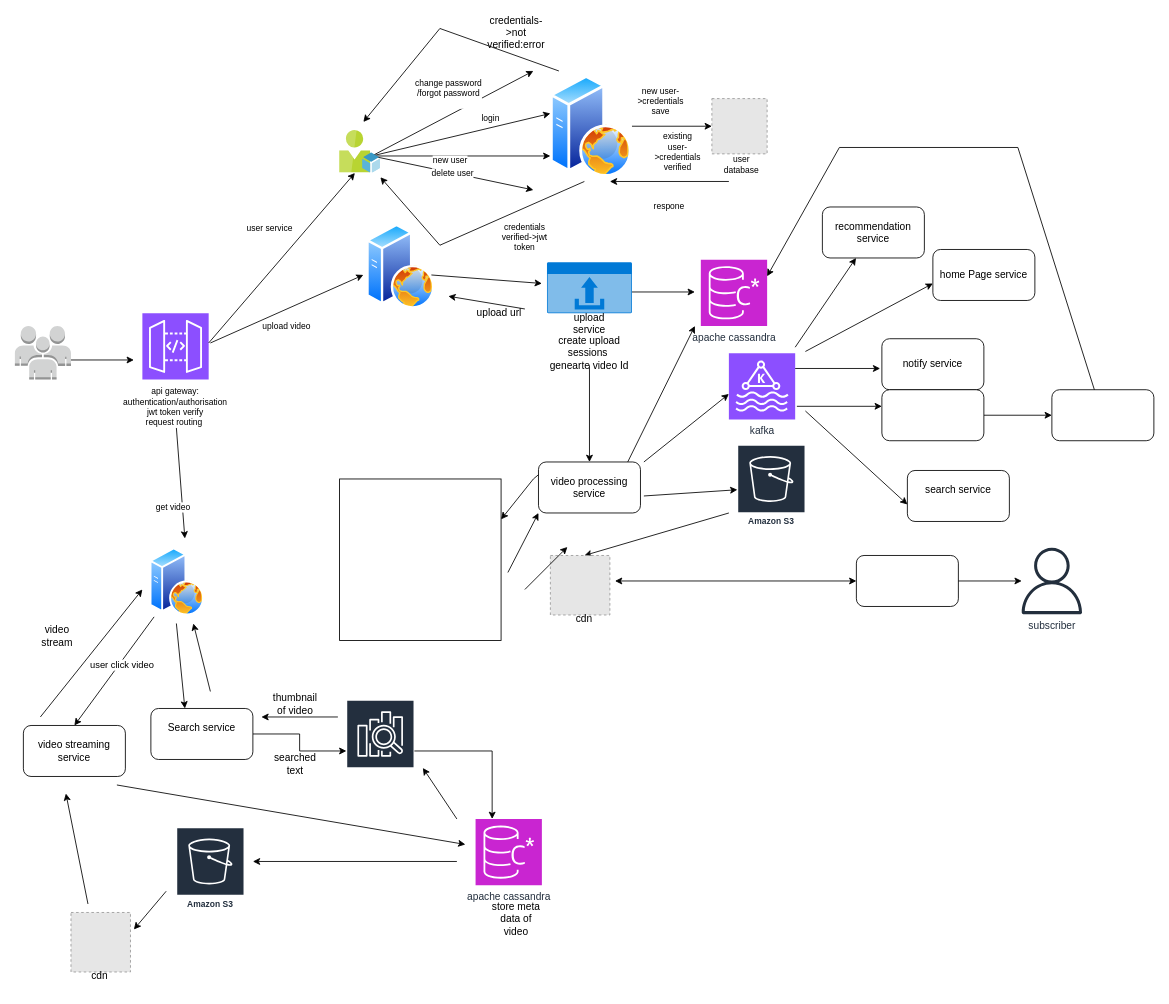
Some shapes in this 1169 by 1004 pixel diagram are drawn without their labels. Grey dashed boxes stand in for pictures. The box of each missing label's shape, as (x1, y1, x2, y2) in pixels:
Amazon Elasticsearch Service: (346, 699, 414, 802)
update meta data: (1051, 389, 1154, 441)
Upload: (547, 262, 632, 313)
video assest handling service: (881, 389, 984, 441)
video splitter video formatter video uploader: (339, 478, 501, 640)
video streaming service app: (856, 555, 958, 606)
